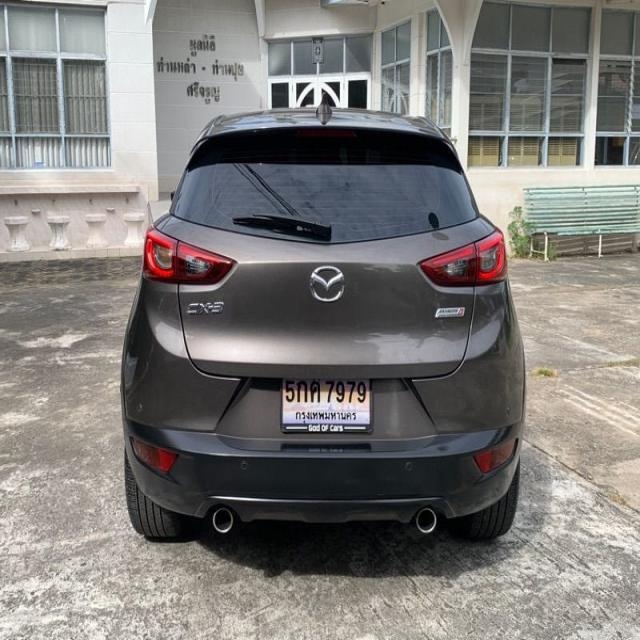license_plate: (273, 362, 383, 441)
